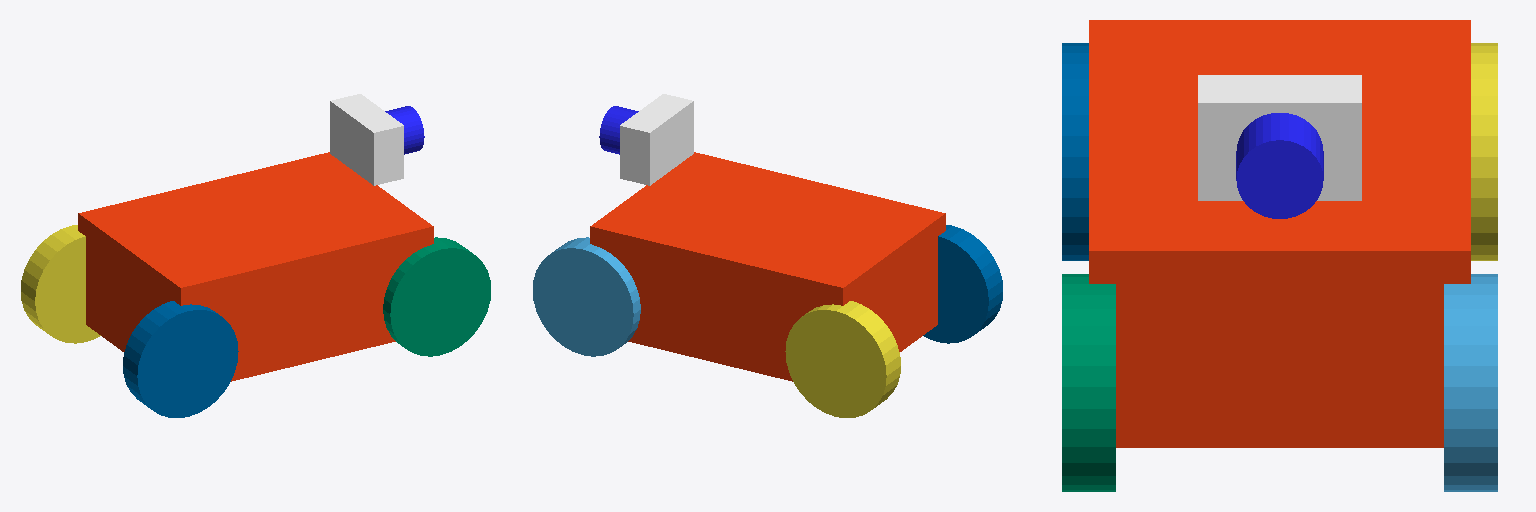
The robot description file, URDF, robot "greenguard":
<?xml version="1.0" ?>
<!-- =================================================================================== -->
<!-- |    This document was autogenerated by xacro from greenguard.urdf.xacro          | -->
<!-- |    EDITING THIS FILE BY HAND IS NOT RECOMMENDED                                 | -->
<!-- =================================================================================== -->
<robot name="greenguard">
  <!-- This is an example of a URDF. -->
  <!-- As we move through the file, new things to note will be pointed out. -->
  <!-- It's not meant an example of GOOD design, but an example of some of the various features of URDF/xacro. -->
  <!-- This file is not a robot in and of itself, it just contains some useful tags that could be included in any robot -->
  <!-- Specify some colours -->
  <material name="white">
    <color rgba="1 1 1 1"/>
  </material>
  <material name="orange">
    <color rgba="1 0.3 0.1 1"/>
  </material>
  <material name="blue">
    <color rgba="0.2 0.2 1 1"/>
  </material>
  <!-- Specify some standard inertial calculations https://en.wikipedia.org/wiki/List_of_moments_of_inertia -->
  <!-- These make use of xacro's mathematical functionality -->
  <!-- 
    <link name="dummy_link"> KDL doesn't support first link with inertia, so we create a dummy link
        <origin xyz="0.0 0.0 ${base_z*4/3}" rpy="0.0 0.0 0.0"/>
    </link>
    
    <joint name="dummy_joint" type="fixed">
        <parent link="dummy_link"/>
        <child link="base_link"/>
    </joint>
    -->
  <link name="base_link">
    <visual>
      <origin rpy="0 0 0" xyz="0 0 0.1"/>
      <geometry>
        <box size="0.5 0.35 0.2"/>
      </geometry>
      <material name="orange"/>
    </visual>
    <collision>
      <origin rpy="0 0 0" xyz="0 0 0.1"/>
      <geometry>
        <box size="0.5 0.35 0.2"/>
      </geometry>
    </collision>
    <inertial>
      <origin rpy="0 0 0" xyz="0 0 0.1"/>
      <mass value="12"/>
      <inertia ixx="0.16249999999999998" ixy="0.0" ixz="0.0" iyy="0.29000000000000004" iyz="0.0" izz="0.3725"/>
    </inertial>
  </link>
  <link name="front_right_wheel_link">
    <visual>
      <geometry>
        <cylinder length="0.05" radius="0.1"/>
      </geometry>
    </visual>
    <collision>
      <geometry>
        <cylinder length="0.05" radius="0.1"/>
      </geometry>
    </collision>
    <inertial>
      <origin rpy="0 1.5707963267948966 0" xyz="0.025 0 0"/>
      <mass value="1.0"/>
      <inertia ixx="0.002708333333333334" ixy="0.0" ixz="0.0" iyy="0.002708333333333334" iyz="0.0" izz="0.005000000000000001"/>
    </inertial>
  </link>
  <joint name="front_right_wheel_joint" type="continuous">
    <parent link="base_link"/>
    <child link="front_right_wheel_link"/>
    <origin rpy="1.5707963267948966 1.5707963267948966 0" xyz="0.25 0.175 0.06666666666666667"/>
    <limit effort="100" lower="-3.141592653589793" upper="3.141592653589793" velocity="100"/>
    <axis xyz="0 0 1"/>
  </joint>
  <link name="front_left_wheel_link">
    <visual>
      <geometry>
        <cylinder length="0.05" radius="0.1"/>
      </geometry>
    </visual>
    <collision>
      <geometry>
        <cylinder length="0.05" radius="0.1"/>
      </geometry>
    </collision>
    <inertial>
      <origin rpy="0 1.5707963267948966 0" xyz="0.025 0 0"/>
      <mass value="1.0"/>
      <inertia ixx="0.002708333333333334" ixy="0.0" ixz="0.0" iyy="0.002708333333333334" iyz="0.0" izz="0.005000000000000001"/>
    </inertial>
  </link>
  <joint name="front_left_wheel_joint" type="continuous">
    <parent link="base_link"/>
    <child link="front_left_wheel_link"/>
    <origin rpy="1.5707963267948966 1.5707963267948966 0" xyz="0.25 -0.175 0.06666666666666667"/>
    <limit effort="100" lower="-3.141592653589793" upper="3.141592653589793" velocity="100"/>
    <axis xyz="0 0 1"/>
  </joint>
  <link name="rear_right_wheel_link">
    <visual>
      <geometry>
        <cylinder length="0.05" radius="0.1"/>
      </geometry>
    </visual>
    <collision>
      <geometry>
        <cylinder length="0.05" radius="0.1"/>
      </geometry>
    </collision>
    <inertial>
      <origin rpy="0 1.5707963267948966 0" xyz="0.025 0 0"/>
      <mass value="1.0"/>
      <inertia ixx="0.002708333333333334" ixy="0.0" ixz="0.0" iyy="0.002708333333333334" iyz="0.0" izz="0.005000000000000001"/>
    </inertial>
  </link>
  <joint name="rear_right_wheel_joint" type="continuous">
    <parent link="base_link"/>
    <child link="rear_right_wheel_link"/>
    <origin rpy="1.5707963267948966 1.5707963267948966 0" xyz="-0.25 0.175 0.06666666666666667"/>
    <limit effort="100" lower="-3.141592653589793" upper="3.141592653589793" velocity="100"/>
    <axis xyz="0 0 1"/>
  </joint>
  <link name="rear_left_wheel_link">
    <visual>
      <geometry>
        <cylinder length="0.05" radius="0.1"/>
      </geometry>
    </visual>
    <collision>
      <geometry>
        <cylinder length="0.05" radius="0.1"/>
      </geometry>
    </collision>
    <inertial>
      <origin rpy="0 1.5707963267948966 0" xyz="0.025 0 0"/>
      <mass value="1.0"/>
      <inertia ixx="0.002708333333333334" ixy="0.0" ixz="0.0" iyy="0.002708333333333334" iyz="0.0" izz="0.005000000000000001"/>
    </inertial>
  </link>
  <joint name="rear_left_wheel_joint" type="continuous">
    <parent link="base_link"/>
    <child link="rear_left_wheel_link"/>
    <origin rpy="1.5707963267948966 1.5707963267948966 0" xyz="-0.25 -0.175 0.06666666666666667"/>
    <limit effort="100" lower="-3.141592653589793" upper="3.141592653589793" velocity="100"/>
    <axis xyz="0 0 1"/>
  </joint>
  <!-- camera_joint describes where the camera is relative to the arm -->
  <!-- - Even though the camera isn't moving relative to the arm, it will probably be helpful to have its own link/frame rather than just adding more visuals to the arm -->
  <!-- - For this example, the camera_link origin will be at the centre of the camera's "sensor" -->
  <joint name="camera_joint" type="fixed">
    <origin rpy="0 0 0" xyz="0.25 0 0.30000000000000004"/>
    <parent link="base_link"/>
    <child link="camera_link"/>
  </joint>
  <!-- camera_link describes the camera at the end of the arm -->
  <!-- - It has multiple visual elements, which ultimately get combined together -->
  <!-- - Even if we specify different materials, RViz will just colour them all the same as the first -->
  <!-- - Although we could also specify multiple collision geometries, instead we just use a single box that encompasses the whole camera -->
  <link name="camera_link">
    <visual>
      <origin rpy="0 0 0" xyz="-0.03 0 0"/>
      <geometry>
        <box size="0.06 0.15 0.1"/>
      </geometry>
      <material name="white"/>
    </visual>
    <visual>
      <origin rpy="0 1.5707963267948966 0" xyz="0.03 0 0"/>
      <geometry>
        <cylinder length="0.06" radius="0.04"/>
      </geometry>
      <material name="blue"/>
    </visual>
    <collision>
      <origin rpy="0 0 0" xyz="0.0 0 0"/>
      <geometry>
        <box size="0.12 0.15 0.1"/>
      </geometry>
    </collision>
    <inertial>
      <origin rpy="0 0 0" xyz="0.0 0 0"/>
      <mass value="0.1"/>
      <inertia ixx="0.000375" ixy="0.0" ixz="0.0" iyy="0.0003075" iyz="0.0" izz="0.0003075"/>
    </inertial>
  </link>
  <!-- This file demonstrates the use of some <gazebo> tags -->
  <!-- To include it add the following line -->
  <!-- <xacro:include filename="example_gazebo.xacro" /> -->
  <!-- Gazebo is unable to use the same <material> tags that are already in the URDF (that RViz uses). -->
  <!-- Instead, we need to add gazebo tags for our links that refer to Gazebo materials -->
  <gazebo reference="base_link">
    <material>Gazebo/Green</material>
  </gazebo>
  <gazebo reference="camera_link">
    <material>Gazebo/Blue</material>
  </gazebo>
  <!-- Gazebo requires the use of plugins to interact with other systems such as ROS. -->
  <!-- This plugin will publish the joint_states for the selected joints 
            (which robot_state_publisher can then use to broadcast the approprate tf). -->
  <gazebo>
    <plugin filename="libgazebo_ros_joint_state_publisher.so" name="gazebo_ros_joint_state_publisher">
      <update_rate>10</update_rate>
      <joint_name>front_right_wheel_joint</joint_name>
      <joint_name>front_left_wheel_joint</joint_name>
      <joint_name>rear_right_wheel_joint</joint_name>
      <joint_name>rear_left_wheel_joint</joint_name>
    </plugin>
  </gazebo>
  <!-- This plugin will read a JointTrajectory message from the /set_joint_trajectory topic 
            and move the machine accordingly. It's a bit clunky but it works. -->
  <!-- You'll probably want to add damping to the joints to stop them it flopping around. 
            e.g. <dynamics damping="10.0" friction="10.0"/> -->
  <!-- Here's an example message to publish to test it:
            ros2 topic pub -1 /set_joint_trajectory trajectory_msgs/msg/JointTrajectory  '{header: {frame_id: world}, joint_names: [slider_joint, arm_joint], points: [  {positions: {0.8,0.6}} ]}' -->
  <gazebo>
    <plugin filename="libgazebo_ros_joint_pose_trajectory.so" name="gazebo_ros_joint_pose_trajectory">
      <update_rate>10</update_rate>
    </plugin>
  </gazebo>
  <!-- The next section shows an example of adding a sensor, in this case a depth camera. -->
  <!-- Due to a quirk of how cameras work, an extra joint/link is required to create an
            "optical frame" for the sensor. That isn't the focus for this tutorial, but you can
            look at https://www.ros.org/reps/rep-0103.html#suffix-frames for slightly more information. -->
  <!-- First, create the link and joint for the optical frame -->
  <joint name="camera_optical_joint" type="fixed">
    <origin rpy="-1.571 0 -1.571" xyz="0 0 0"/>
    <parent link="camera_link"/>
    <child link="camera_link_optical"/>
  </joint>
  <link name="camera_link_optical"/>
  <!-- Add a gazebo tag for the ORIGINAL camera_link (but in the plugin we reference the optical frame so that ROS can orient things correctly) -->
  <!-- Within the gazebo tag we have the sensor tag, and inside that there is (among other things) the camera tag with the camera parameters, 
            and the plugin tag with some extra parameters the plugin needs. -->
  <!-- Note that although visualise is set to true, it won't actually visualise the depth camera in gazebo. To see the preview, 
            try swapping "depth" to "camera"-->
  <gazebo reference="camera_link">
    <sensor name="guard_cam" type="depth">
      <update_rate>20</update_rate>
      <visualize>true</visualize>
      <camera name="cam">
        <horizontal_fov>1.3962634</horizontal_fov>
        <image>
          <width>640</width>
          <height>480</height>
          <format>B8G8R8</format>
        </image>
        <clip>
          <near>0.02</near>
          <far>300</far>
        </clip>
        <noise>
          <type>gaussian</type>
          <mean>0.0</mean>
          <stddev>0.007</stddev>
        </noise>
      </camera>
      <plugin filename="libgazebo_ros_camera.so" name="camera_controller">
        <frame_name>camera_link_optical</frame_name>
        <min_depth>0.1</min_depth>
        <max_depth>500</max_depth>
      </plugin>
    </sensor>
  </gazebo>
  <gazebo>
    <plugin filename="libgazebo_ros_diff_drive.so" name="skid_steer_drive">
      <ros>
        <namespace>/greenguard</namespace>
      </ros>
      <!-- Number of wheel pairs -->
      <num_wheel_pairs>2</num_wheel_pairs>
      <!-- wheels0 -->
      <left_joint>front_left_wheel_joint</left_joint>
      <right_joint>front_right_wheel_joint</right_joint>
      <!-- wheels1-->
      <left_joint>rear_left_wheel_joint</left_joint>
      <right_joint>rear_right_wheel_joint</right_joint>
      <!-- kinematics -->
      <wheel_separation>0.4</wheel_separation>
      <wheel_separation>0.4</wheel_separation>
      <wheel_diameter>0.2</wheel_diameter>
      <wheel_diameter>0.2</wheel_diameter>
      <!-- limits -->
      <max_wheel_torque>10</max_wheel_torque>
      <max_wheel_acceleration>1.0</max_wheel_acceleration>
      <!-- output -->
      <publish_odom>true</publish_odom>
      <publish_odom_tf>true</publish_odom_tf>
      <publish_wheel_tf>true</publish_wheel_tf>
      <odometry_frame>odom</odometry_frame>
      <robot_base_frame>base_link</robot_base_frame>
    </plugin>
  </gazebo>
</robot>

--- What the picture shows (computed from the rendered views, not written in the file) ---
The picture shows the robot from 3 angles, left to right: view 1: azimuth 30°, elevation 25°; view 2: azimuth 150°, elevation 25°; view 3: azimuth 270°, elevation 25°; orthographic projection.
Robot: greenguard — 7 links, 6 joints (4 continuous, 2 fixed); root link base_link; default pose: every joint at zero.
Links seen in each view (by area): view 1: base_link, rear_left_wheel_link, front_left_wheel_link, camera_link, rear_right_wheel_link; view 2: base_link, rear_right_wheel_link, front_right_wheel_link, camera_link, rear_left_wheel_link; view 3: base_link, camera_link, front_right_wheel_link, front_left_wheel_link, rear_right_wheel_link, rear_left_wheel_link.
Link boxes in pixels (bbox=[...]): base_link: bbox=[78, 152, 433, 381]; rear_left_wheel_link: bbox=[123, 301, 238, 417]; front_left_wheel_link: bbox=[383, 237, 490, 356]; camera_link: bbox=[330, 94, 424, 185]; rear_right_wheel_link: bbox=[21, 225, 100, 343]; base_link: bbox=[590, 152, 945, 381]; rear_right_wheel_link: bbox=[785, 301, 900, 417]; front_right_wheel_link: bbox=[533, 237, 640, 356]; camera_link: bbox=[599, 94, 693, 185]; rear_left_wheel_link: bbox=[923, 225, 1002, 343]; base_link: bbox=[1089, 20, 1470, 447]; camera_link: bbox=[1198, 75, 1361, 218]; front_right_wheel_link: bbox=[1444, 274, 1497, 491]; front_left_wheel_link: bbox=[1062, 274, 1115, 491]; rear_right_wheel_link: bbox=[1471, 43, 1497, 260]; rear_left_wheel_link: bbox=[1062, 43, 1088, 260].
Size in the robot's own frame: 0.7 by 0.4 by 0.3833 metres.
Geometry: primitives only (box / cylinder / sphere), no mesh files.